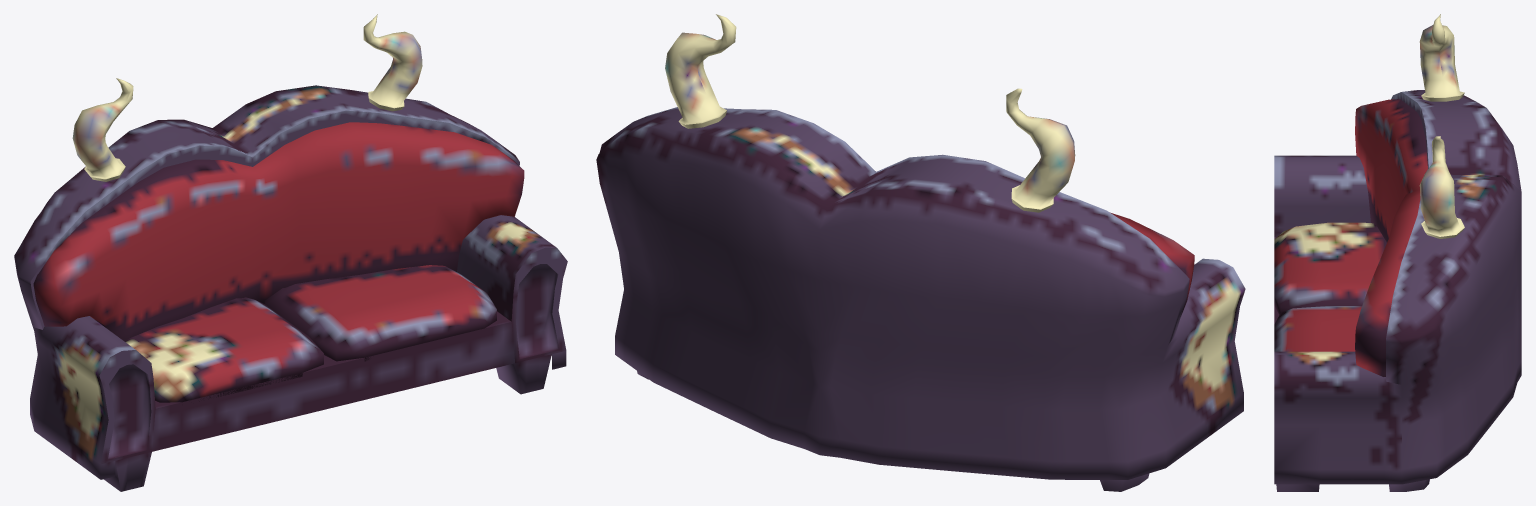
File: creepy_couch.fbx
3 renders of one model, left to right at view 1: azimuth 30°, elevation 25°; view 2: azimuth 150°, elevation 25°; view 3: azimuth 270°, elevation 25°, orthographic. The views are drawn at different scales.
Visible parts, largest first — view 1: creepy_couch.002; view 2: creepy_couch.002; view 3: creepy_couch.002.
Boxes of the visible parts, bbox=[...] form: creepy_couch.002: bbox=[14, 14, 567, 491]; creepy_couch.002: bbox=[596, 14, 1245, 491]; creepy_couch.002: bbox=[1274, 14, 1521, 491].
Bounding box in the file's own units: 186 × 119 × 83.49.
